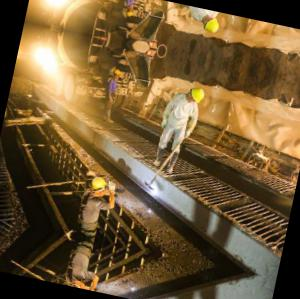helmet: (186, 84, 209, 109), (201, 12, 224, 37), (89, 175, 111, 200), (69, 278, 89, 289), (114, 67, 124, 80), (126, 7, 136, 20)
